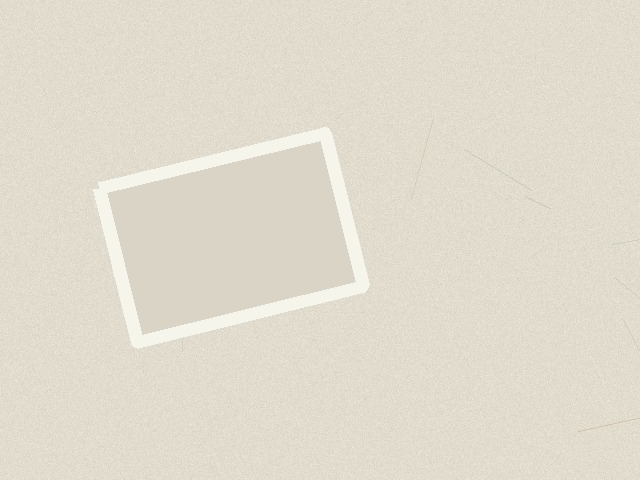parking_area: (99, 133, 363, 342)
